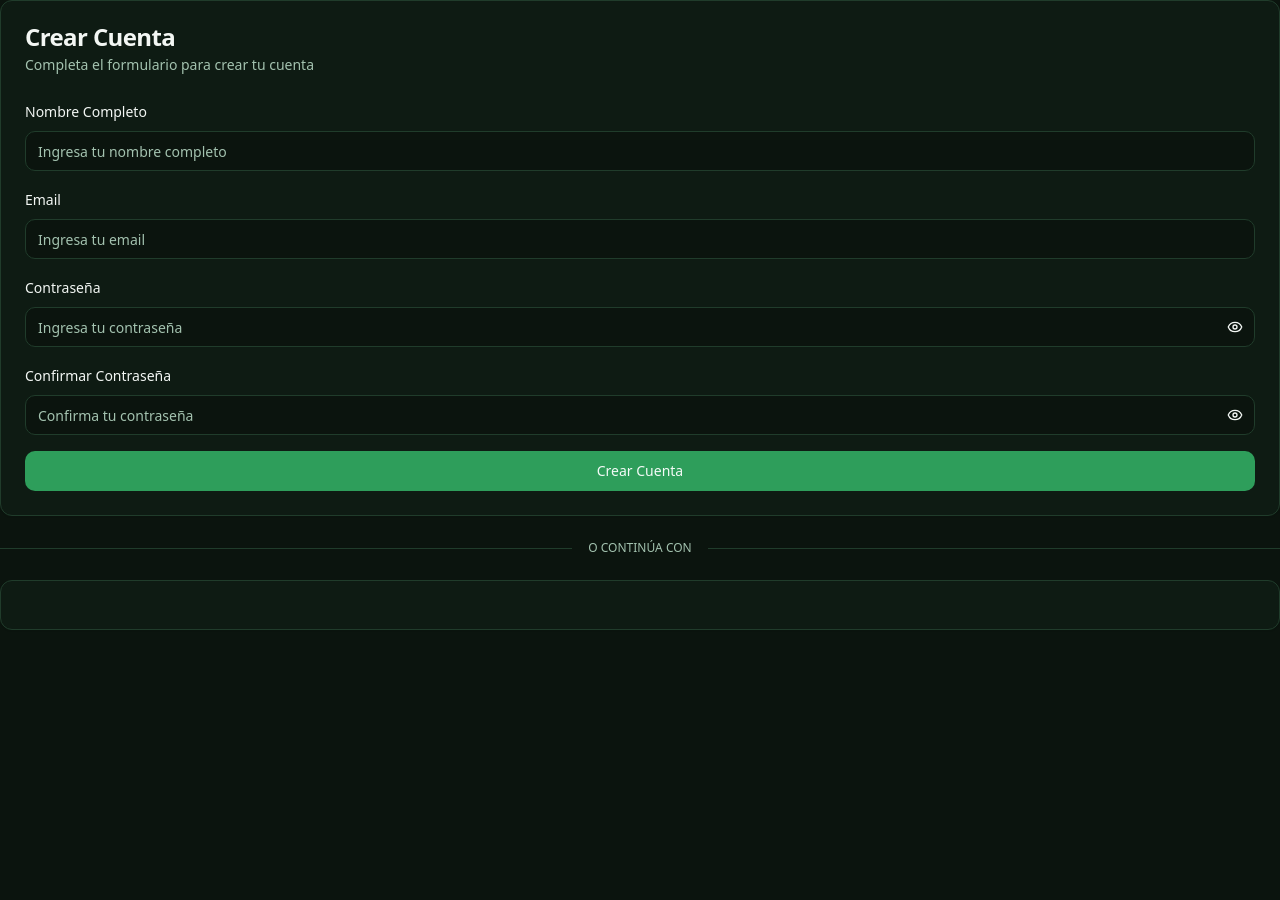
Test: RegisterForm › shows a translated error when the email is already registered
Type "Test User" into the field labelled "Nombre Completo". click: (640, 151)
box: [25,131,1255,171]
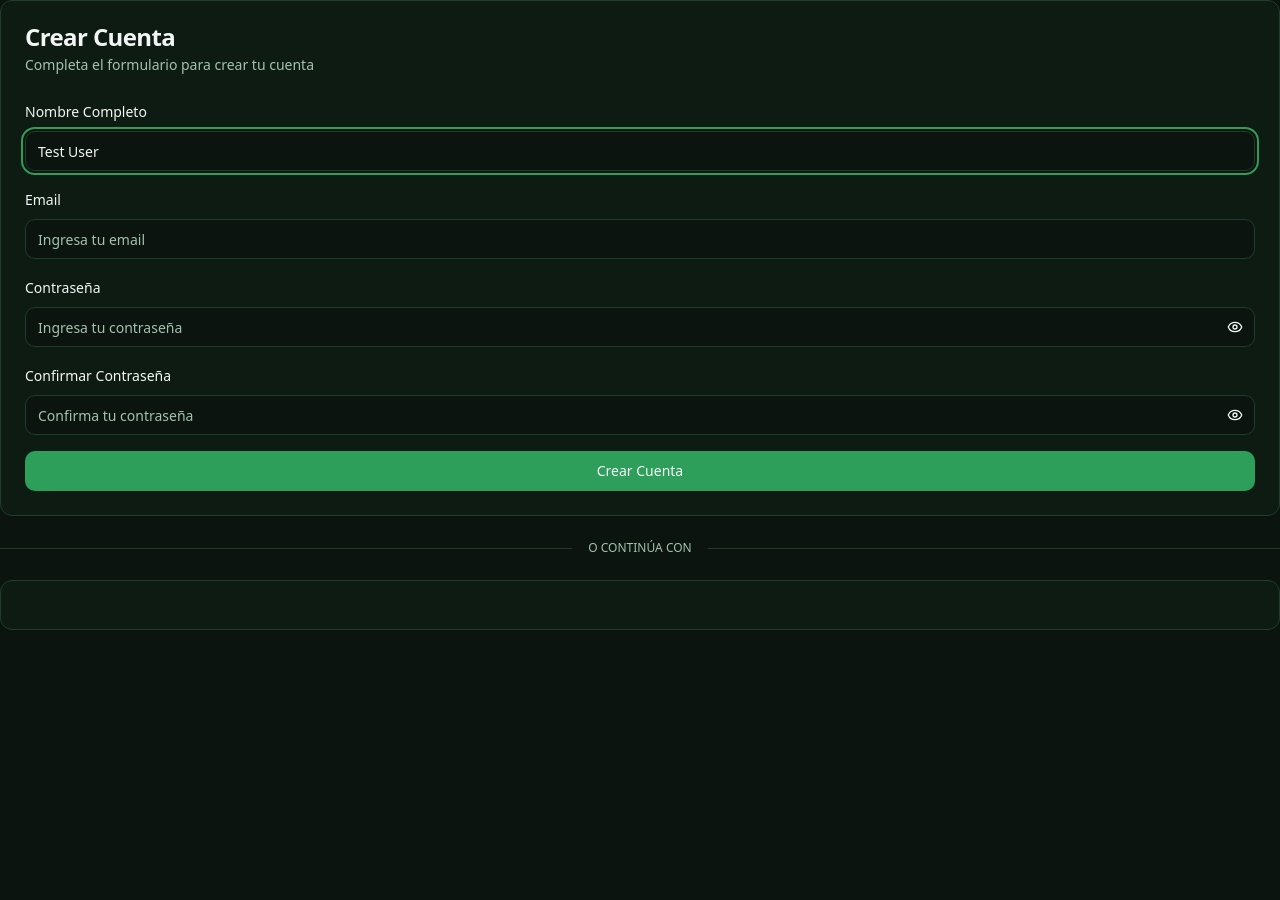
Type "test@example.com" into the field labelled "Email". click: (640, 239)
box: [25,219,1255,259]
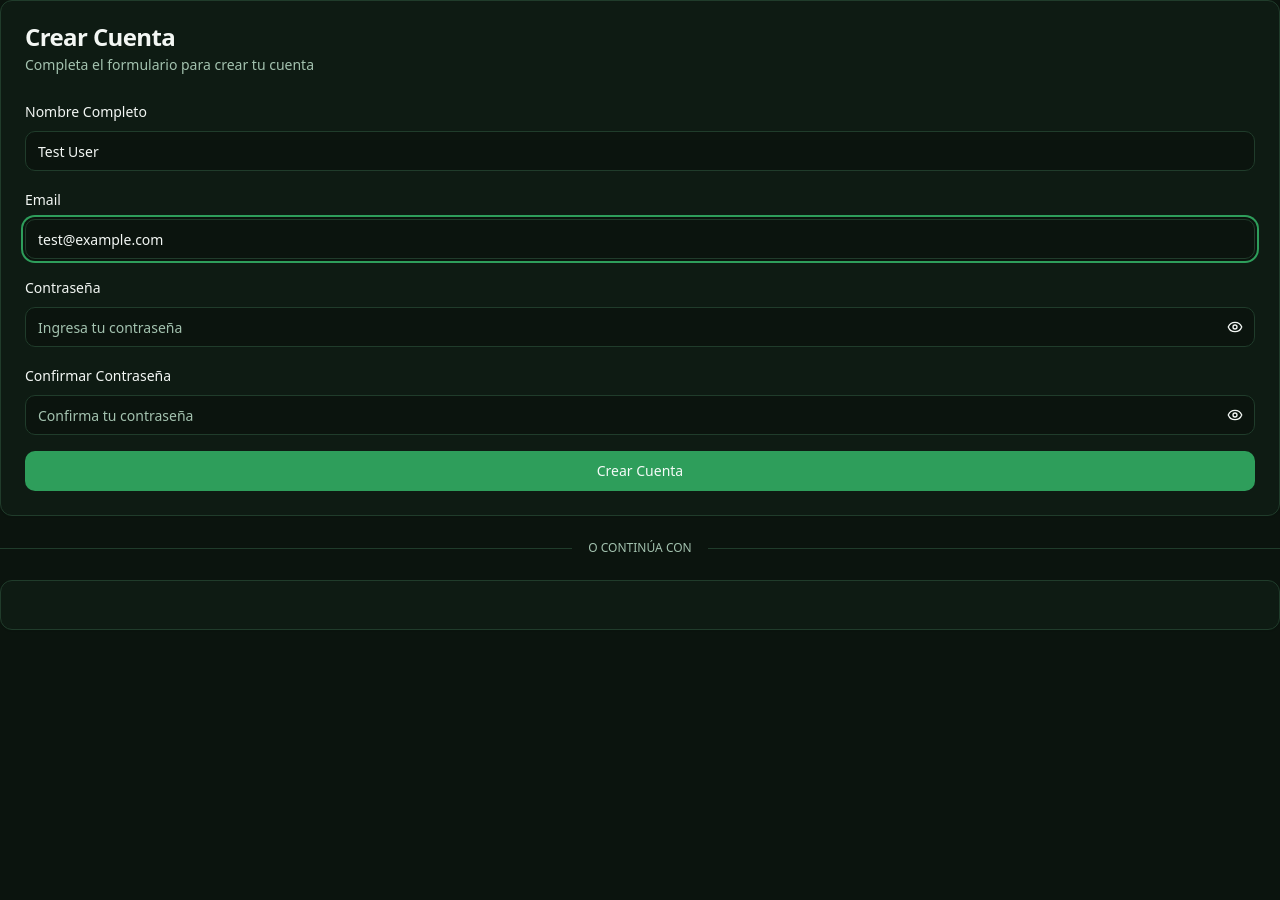
Type "password123" into the password field with placeholder "Ingresa tu contraseña". click: (640, 327)
box: [25,307,1255,347]
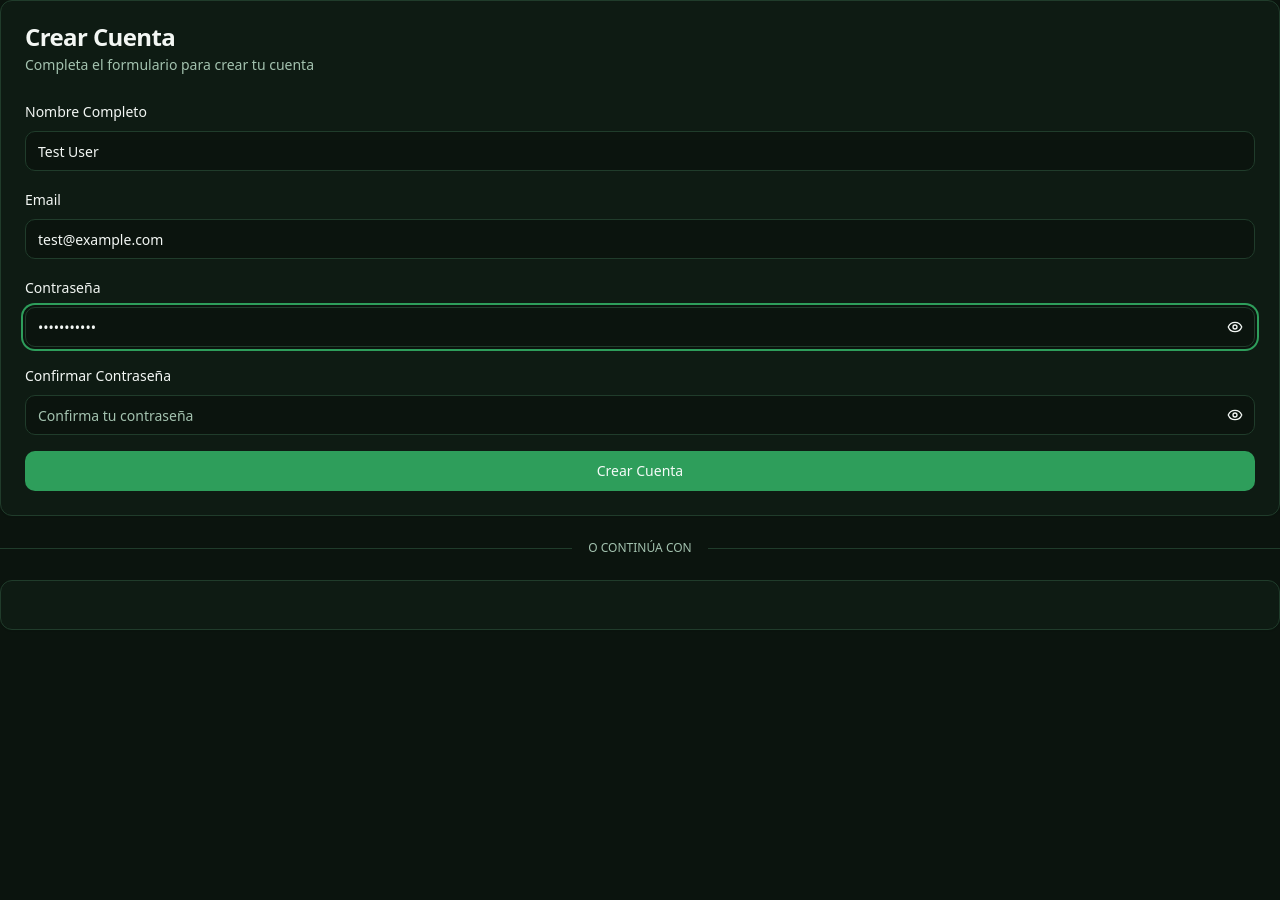
Type "password123" into the password field with placeholder "Confirma tu contraseña". click: (640, 415)
box: [25,395,1255,435]
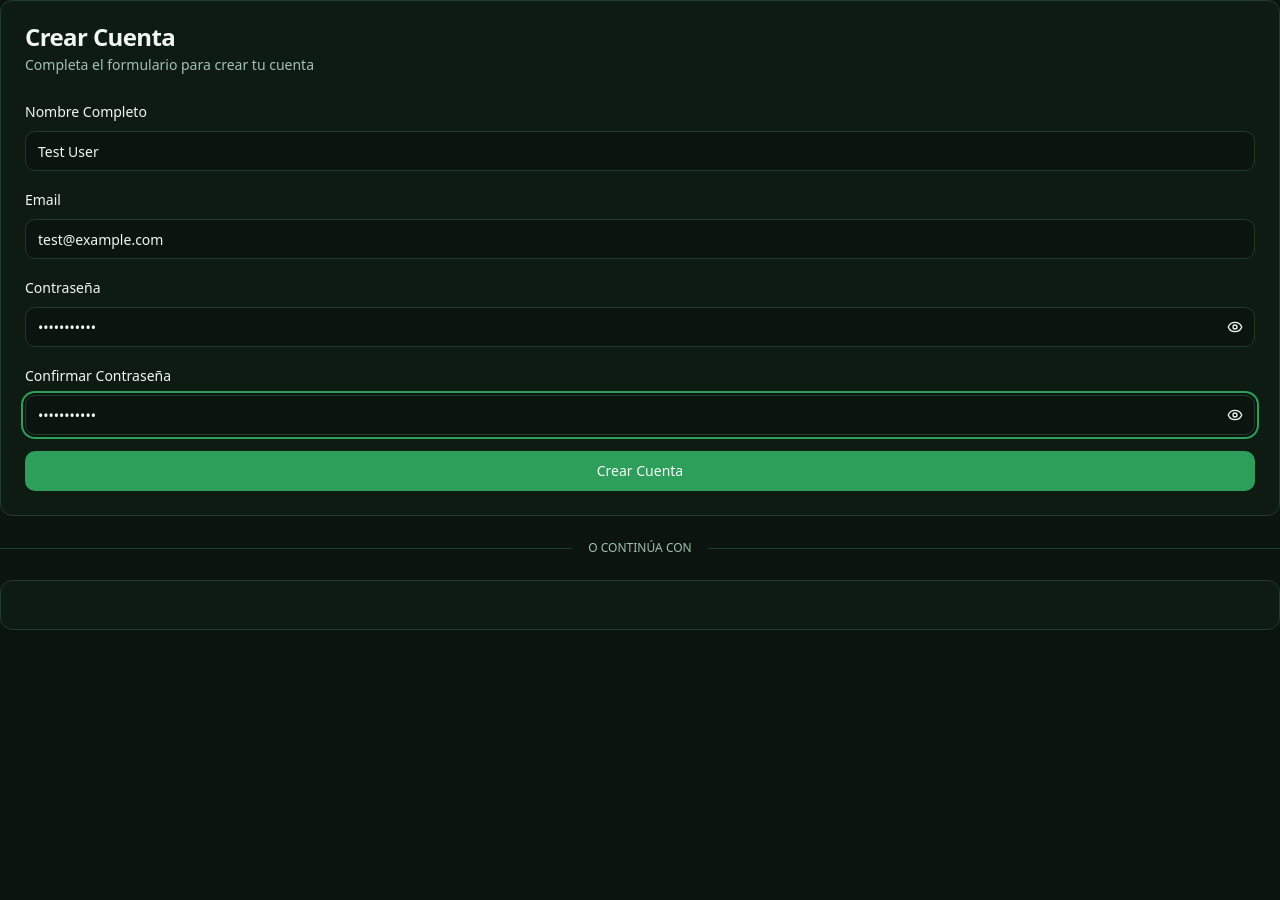
Click the button "Crear Cuenta". click: (640, 471)
box: [25,451,1255,491]
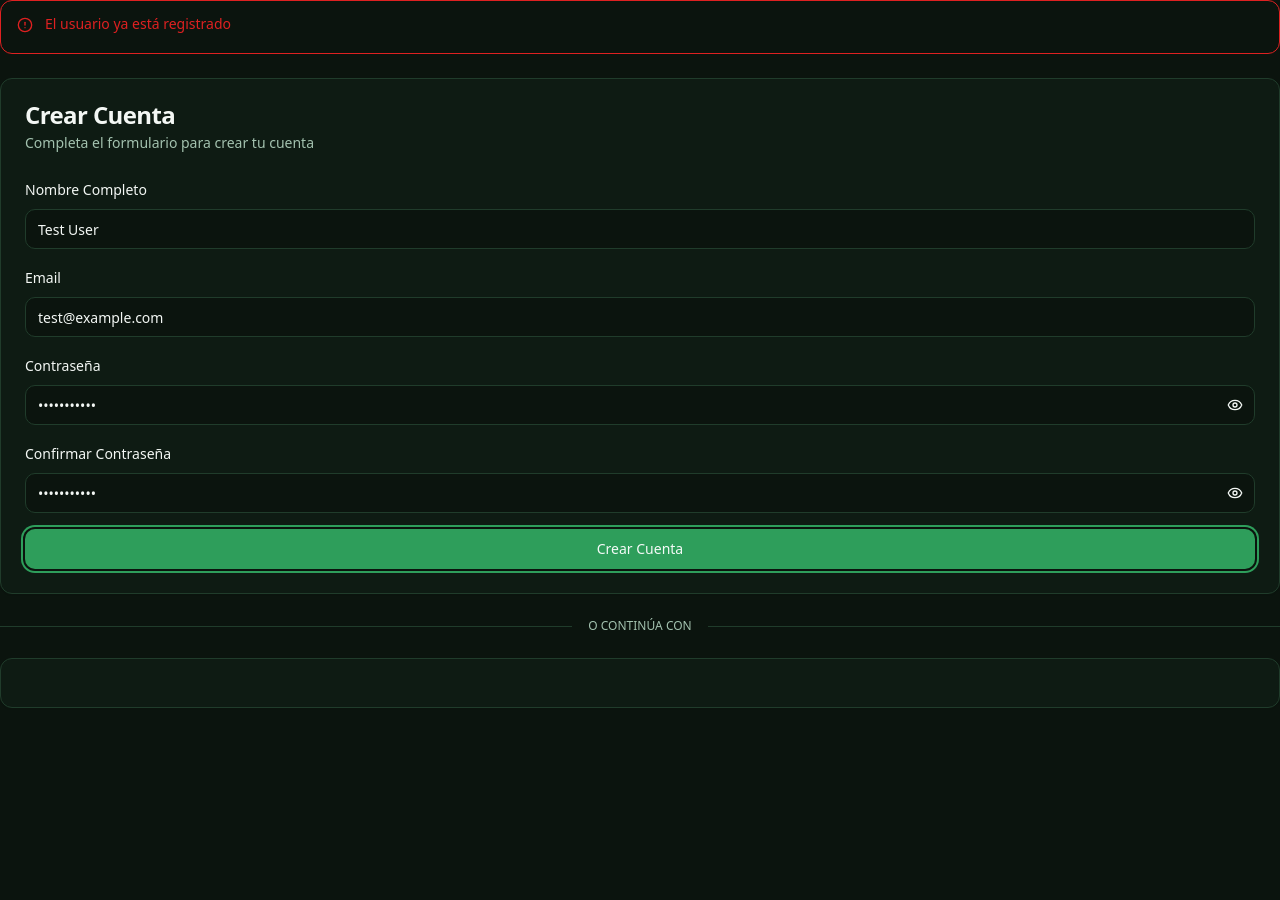
Now the text "El usuario ya está registrado" is shown, box [45,14,231,33]
